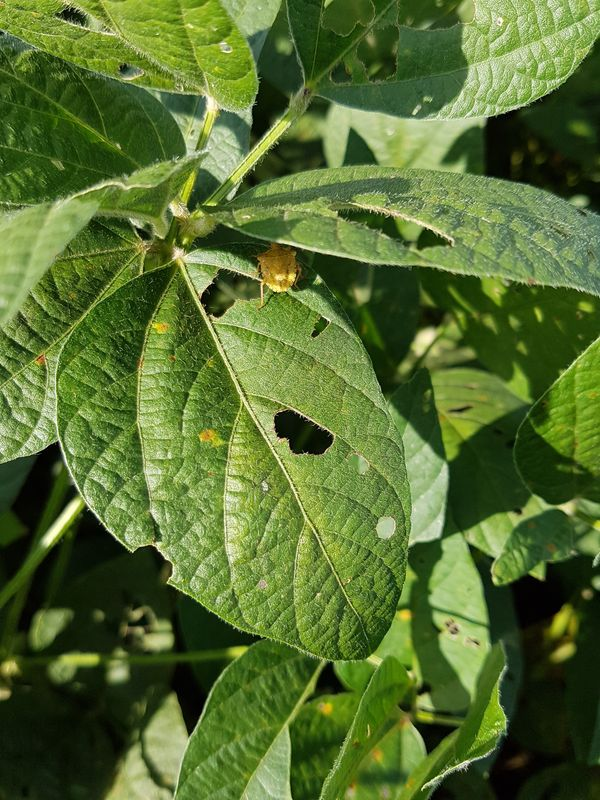Euschistus_heros_ninfa: (239, 233, 316, 305)
